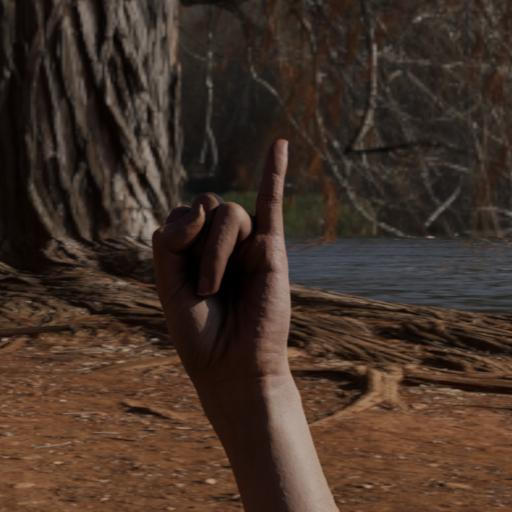I: (151, 136, 298, 380)
